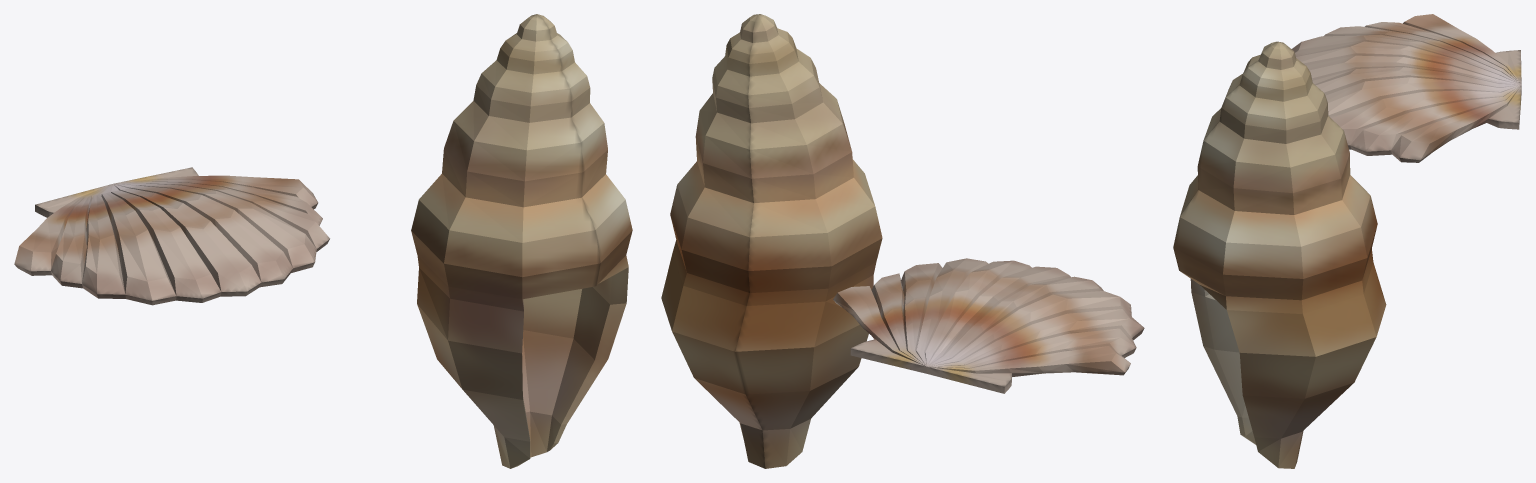
Rendered from sea_shell.glb.
The picture shows the model from 3 angles, left to right: view 1: azimuth 30°, elevation 25°; view 2: azimuth 150°, elevation 25°; view 3: azimuth 270°, elevation 25°; orthographic projection. The views are drawn at different scales.
Visible parts, largest first — view 1: Node; view 2: Node; view 3: Node.
Boxes of the visible parts, x1,y1,x2,y2 form: Node: [14, 14, 632, 468]; Node: [661, 14, 1144, 468]; Node: [1173, 14, 1521, 468].
Size of the model in its own units: 5.26 by 4.29 by 3.16.
Materials: 2 (2 with a texture image).
